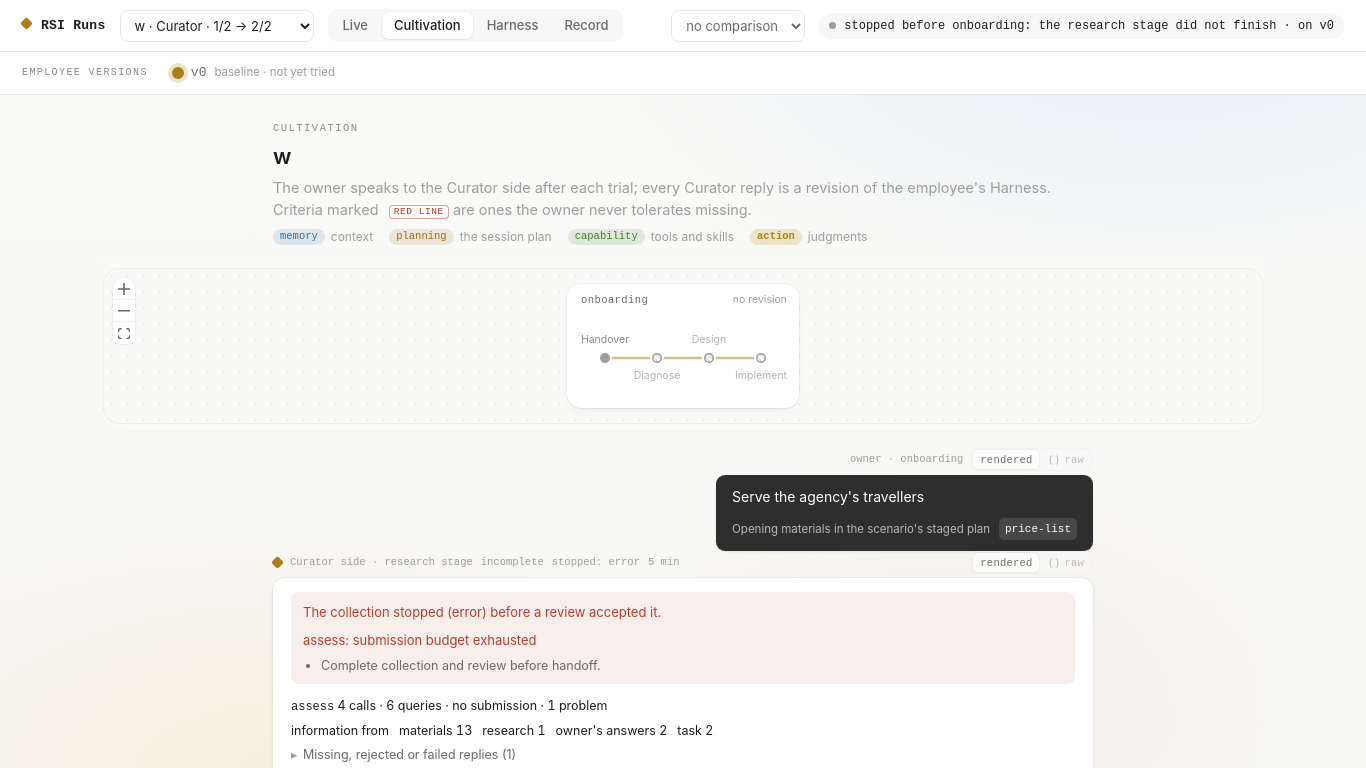
Scenario: a run whose research stage stopped shows why, and that no round ran
The image size is (1366, 768).
Expected: the text "The collection stopped (error) before a review accepted it." is shown, [303,604,661,620]
Expected: the text "assess: submission budget exhausted" is shown, [303,632,536,648]
Step 1. Click the heading "Missing, rejected or failed replies (1)" → x=410, y=755, box [303,747,516,762]
(page scrolled)
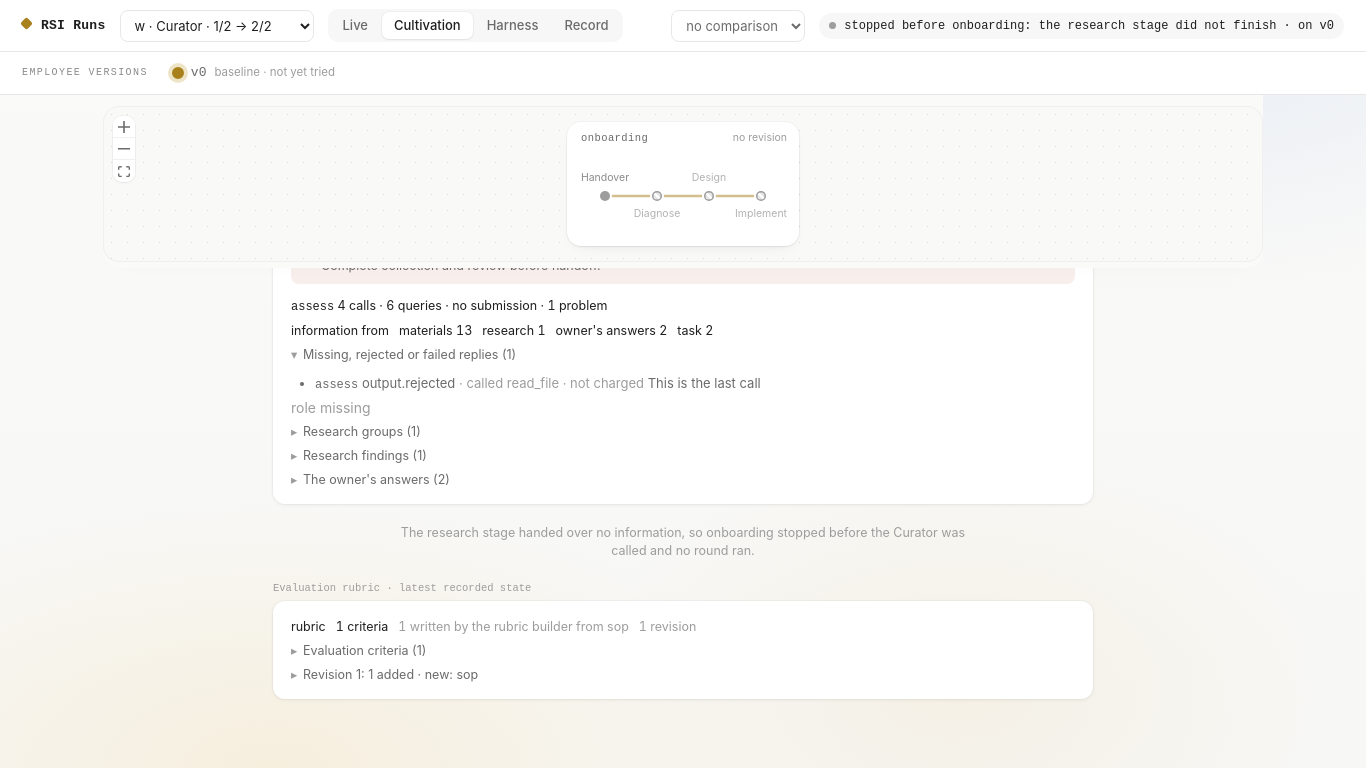
Expected: the text "research 1" is shown, [482,319,546,343]
Result: the text "· called read_file" is shown at [455,375,559,391]
Result: the text "The research stage handed over no information, so onboarding stopped before the Curator was called and no round ran." is shown at [401,524,965,558]
Step 2. Click the heading "Research groups (1)" → x=362, y=431, box [303,424,421,438]
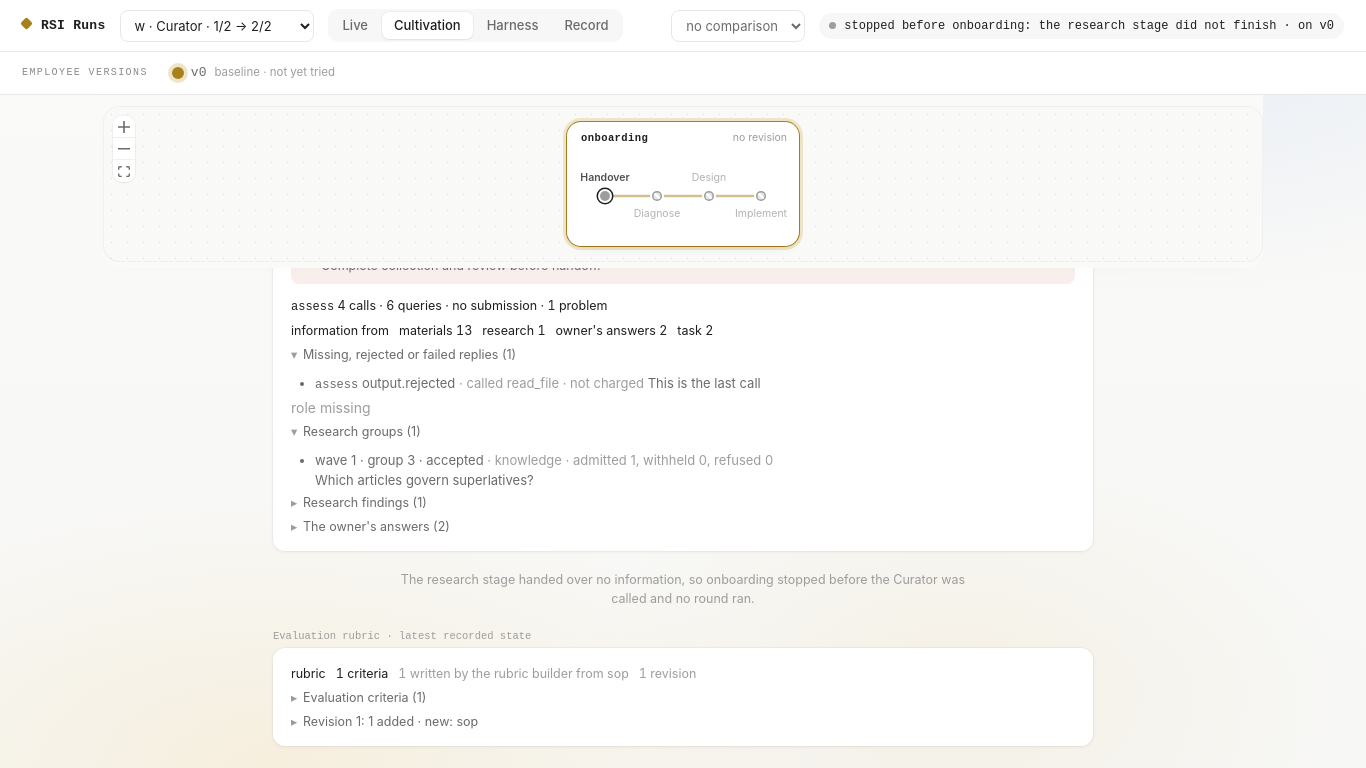
Result: the text "Which articles govern superlatives?" is shown at [315,472,534,488]
Step 3. Click the heading "Research findings (1)" → x=365, y=503, box [303,495,427,510]
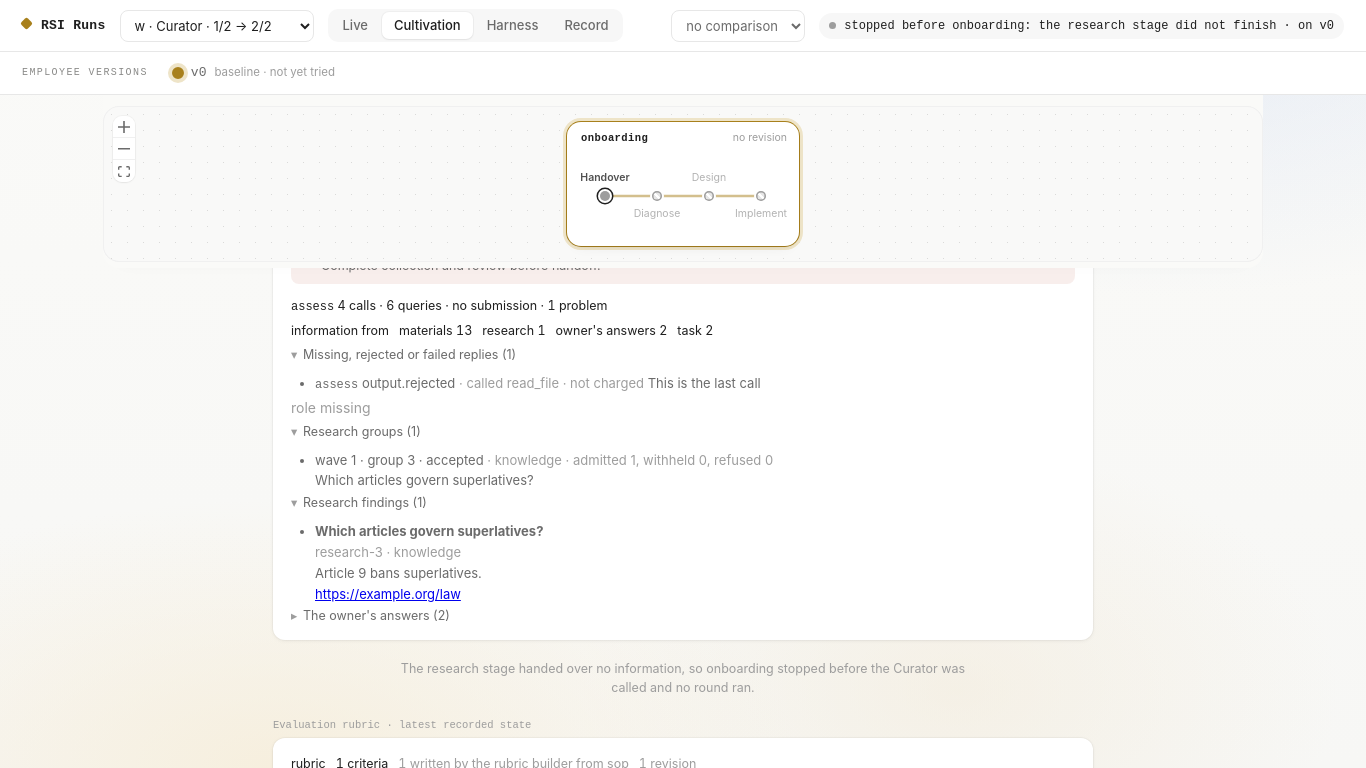
Result: the link "https://example.org/law" is shown at [315,586,461,602]
Step 4. Click the heading "The owner's answers (2)" → x=376, y=616, box [303,608,450,623]
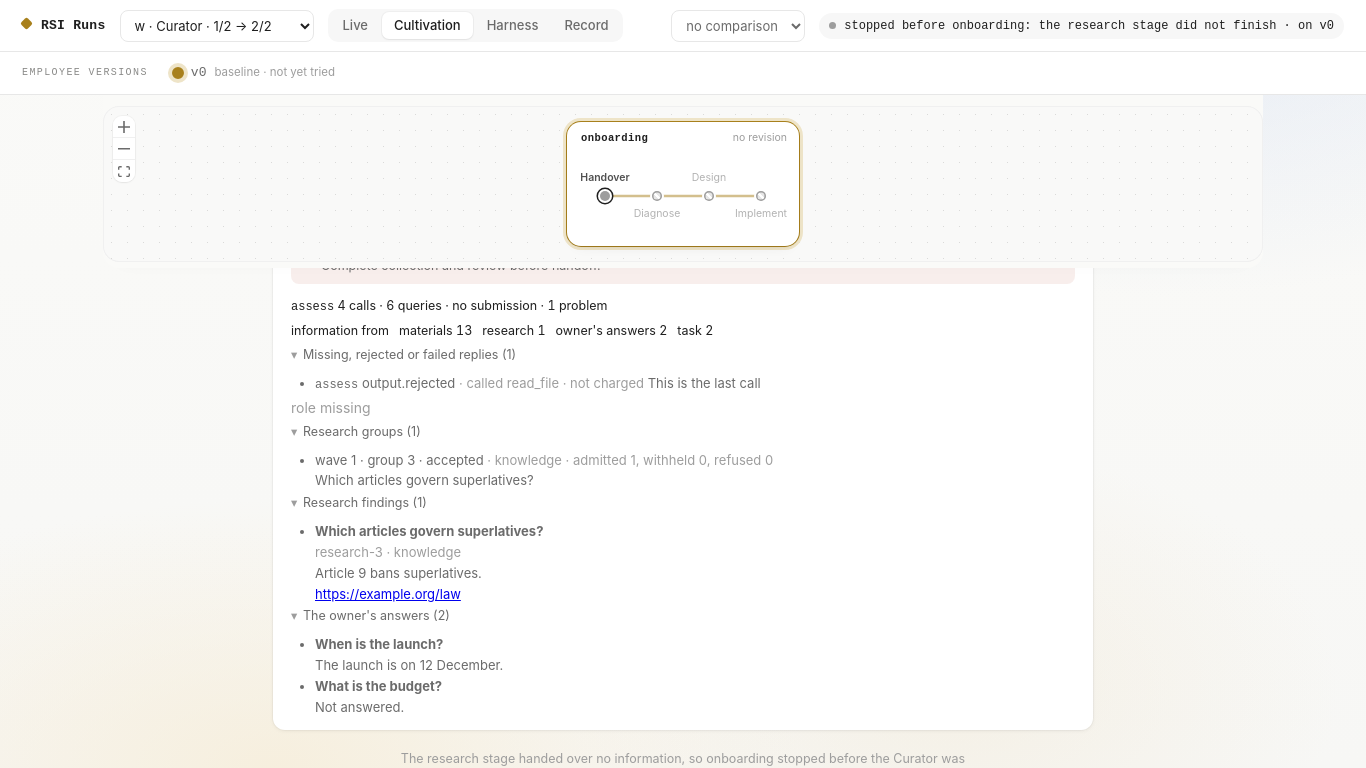
Result: the text "The launch is on 12 December." is shown at [315,657,503,673]
Result: the text "What is the budget?" is shown at [315,678,442,694]
Result: the text "Not answered." is shown at [315,699,404,715]
